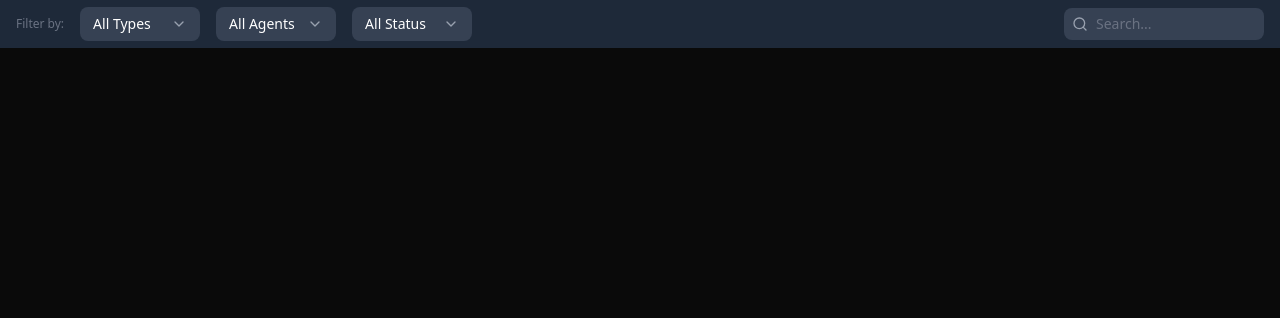
Test: Filter Keyboard Shortcuts (Item 011) › Escape closes open dropdown menus › should close type dropdown when Escape is pressed
# Open type dropdown
Click the button with test id "type-filter-dropdown" at [140, 24], box [80,7,200,41]
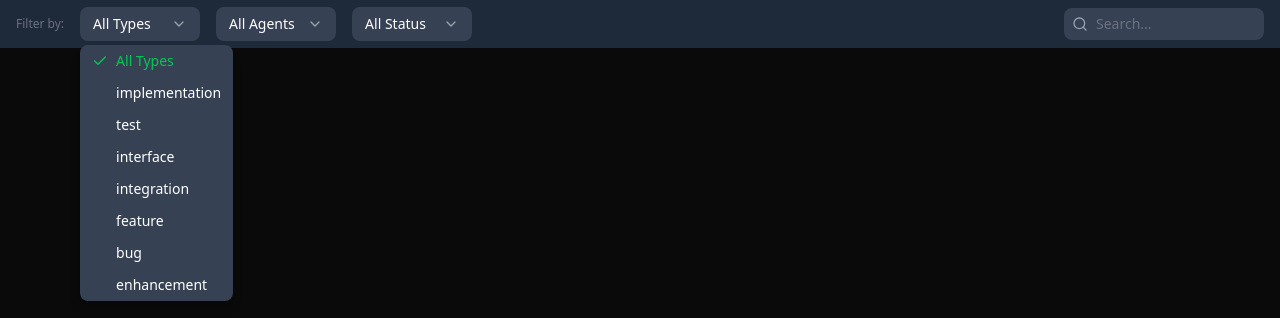
Check: the option "bug" is shown, box [116,243,142,262]
# Press Escape
Press Escape
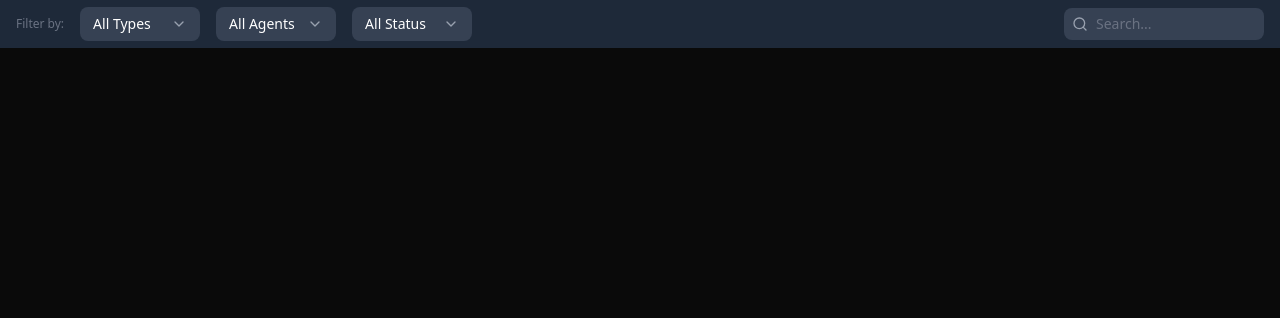
Check: the option "bug" is gone
